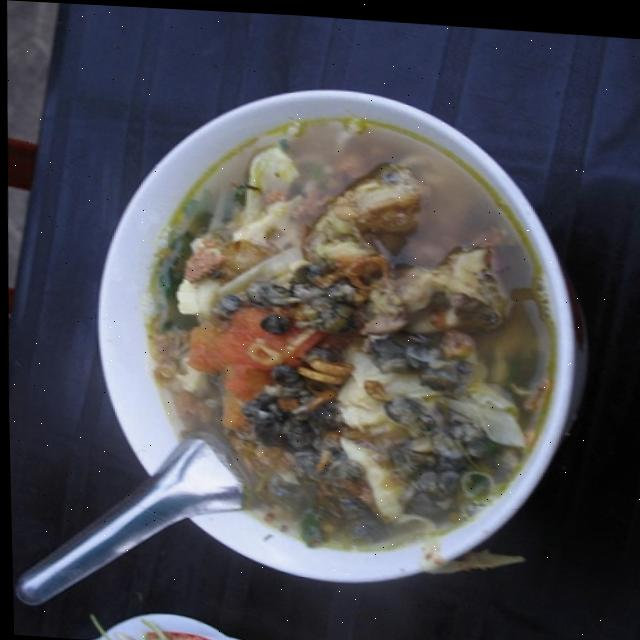面条主食: (24, 36, 605, 629)
